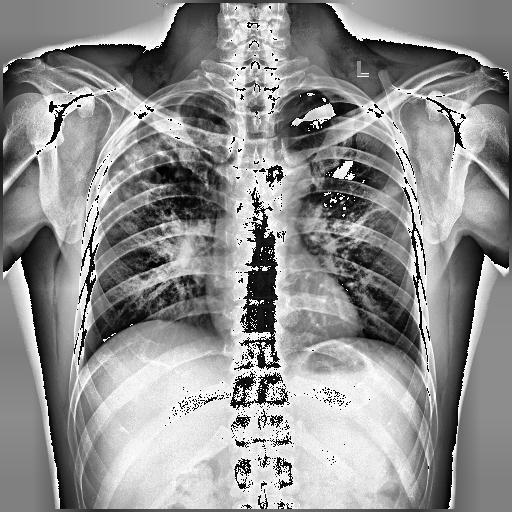0- Aortic enlargement: (260, 148, 311, 206)
13- Pulmonary fibrosis: (104, 92, 234, 234), (98, 104, 213, 255), (102, 116, 222, 230), (300, 186, 404, 278), (332, 186, 400, 250), (339, 182, 402, 241)
4- Consolidation: (98, 104, 213, 255)
6- Infiltration: (104, 92, 234, 234), (98, 104, 213, 255), (102, 116, 222, 230), (300, 186, 404, 278)
